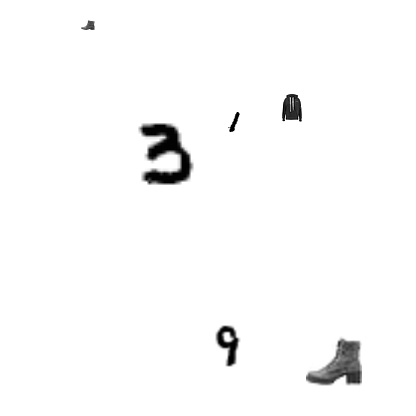1: (220, 108, 248, 136)
3: (124, 112, 208, 196)
9: (200, 314, 256, 370)
Ankle_boot: (306, 333, 362, 389), (81, 18, 95, 32)
Pullover: (278, 94, 306, 122)
